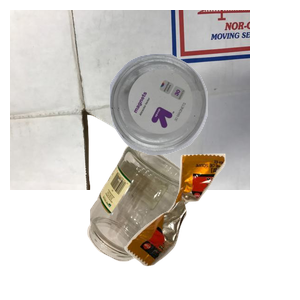cardboard: (10, 10, 250, 190)
glass: (85, 141, 275, 300)
plastic: (107, 51, 300, 199)
trash: (122, 151, 300, 300)
